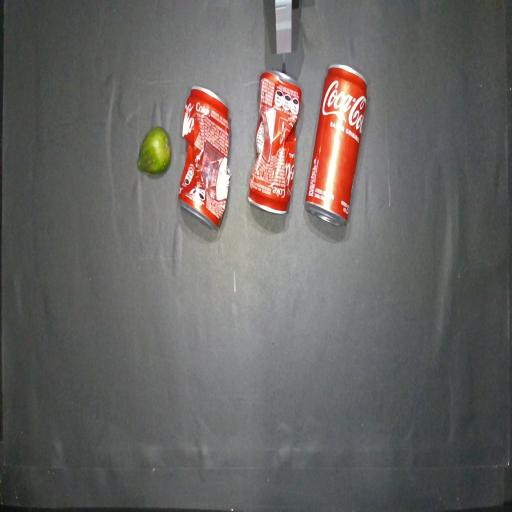higo: (138, 128, 171, 174)
lata: (305, 65, 366, 226)
lata_defectuoso: (178, 86, 231, 229), (248, 71, 301, 213)
